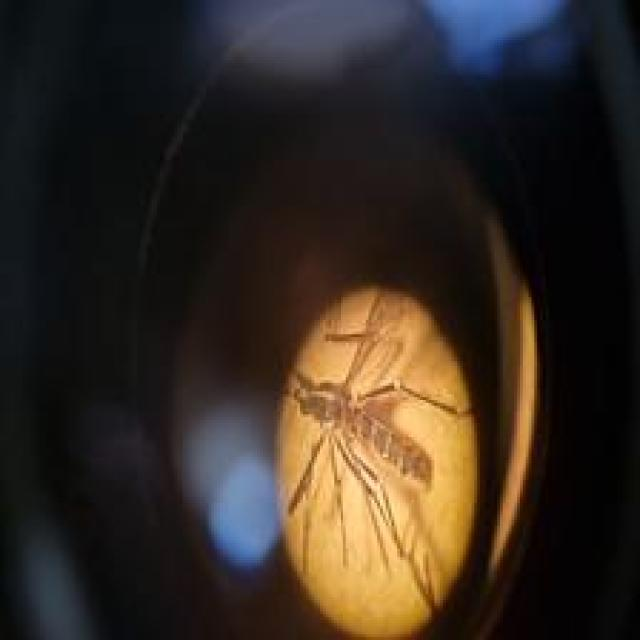Aedes albopictus: (276, 290, 467, 633)
